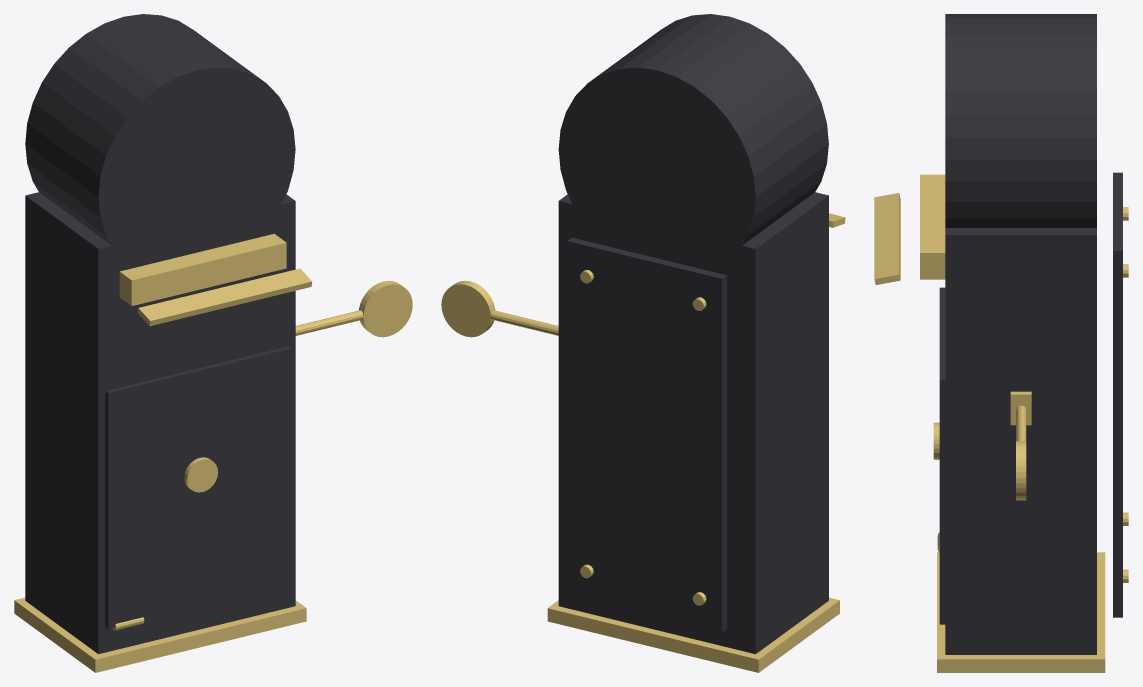
File: MailBox.glb
3 renders of one model, left to right at view 1: azimuth 30°, elevation 25°; view 2: azimuth 150°, elevation 25°; view 3: azimuth 270°, elevation 25°, orthographic. The views are drawn at different scales.
Visible parts, largest first — view 1: MailboxBody, TopCap, FrontDoor, LetterSlotHood, BottomTrim, SlotVisor, FlagMedallion, KeyholeEscutcheon, FlagArm; view 2: MountingPlate, MailboxBody, TopCap, BottomTrim, FlagMedallion, FlagArm; view 3: MailboxBody, TopCap, BottomTrim, MountingPlate, LetterSlotHood, SlotVisor, FrontDoor, FlagMedallion, FlagBracket, FlagArm.
Part boxes in pixels (x1,y1,x2,y2): MailboxBody: (25, 192, 295, 654); TopCap: (25, 14, 295, 264); FrontDoor: (105, 346, 291, 628); LetterSlotHood: (119, 233, 286, 305); BottomTrim: (14, 597, 306, 672); SlotVisor: (137, 268, 312, 326); FlagMedallion: (359, 280, 412, 337); KeyholeEscutcheon: (184, 457, 218, 492); FlagArm: (295, 310, 363, 335); MountingPlate: (567, 237, 726, 632); MailboxBody: (558, 192, 828, 654); TopCap: (558, 14, 828, 271); BottomTrim: (547, 597, 839, 672); FlagMedallion: (441, 280, 495, 337); FlagArm: (490, 310, 558, 335); MailboxBody: (945, 228, 1096, 654); TopCap: (945, 14, 1096, 227); BottomTrim: (937, 552, 1105, 672); MountingPlate: (1113, 172, 1122, 617); LetterSlotHood: (920, 174, 945, 279); SlotVisor: (874, 193, 900, 284); FrontDoor: (939, 287, 945, 624); FlagMedallion: (1016, 441, 1026, 500); FlagBracket: (1010, 391, 1031, 425); FlagArm: (1016, 405, 1026, 441).
Size of the model in its own units: 0.505 by 0.779 by 0.3018.
